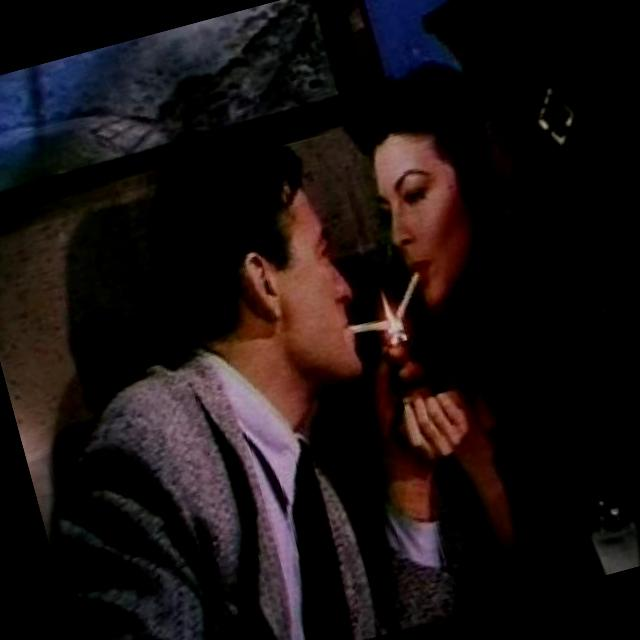cigarette: (385, 268, 430, 322), (344, 308, 398, 348)
